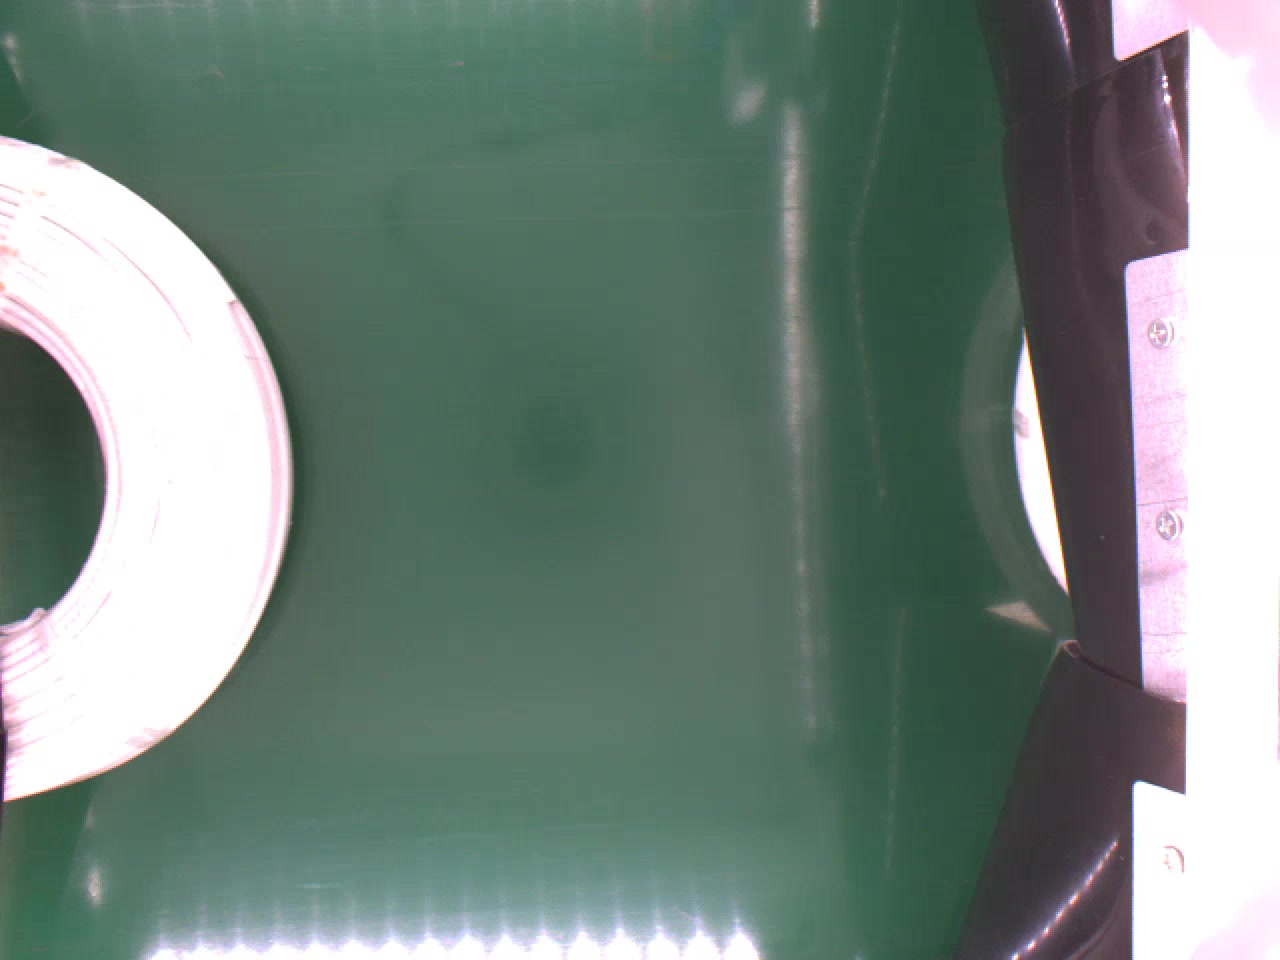white: (0, 132, 295, 801)
